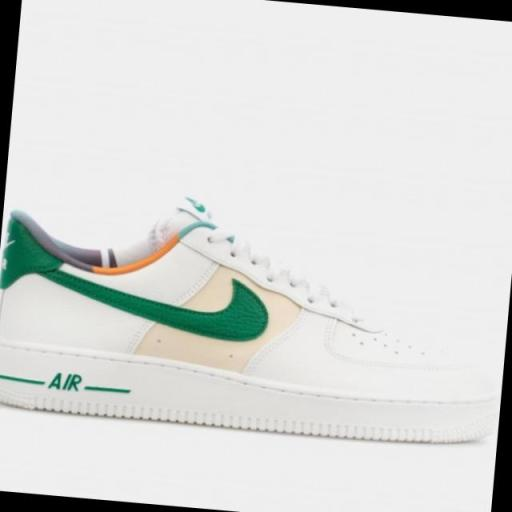Nike: (17, 257, 282, 354)
